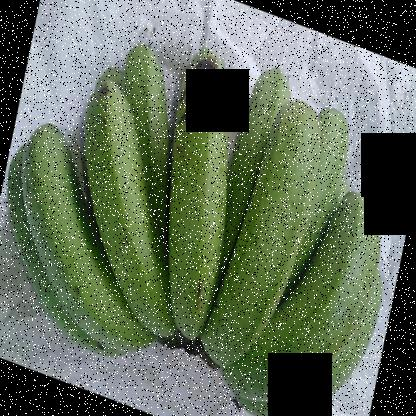unripe: (217, 93, 315, 378), (258, 181, 379, 406), (74, 76, 167, 347), (162, 43, 235, 340), (16, 124, 109, 346)
